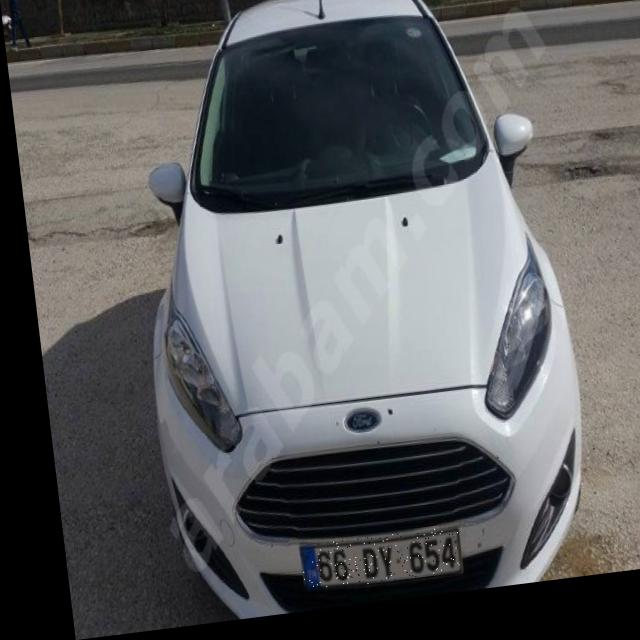license_plate: (285, 536, 448, 598)
